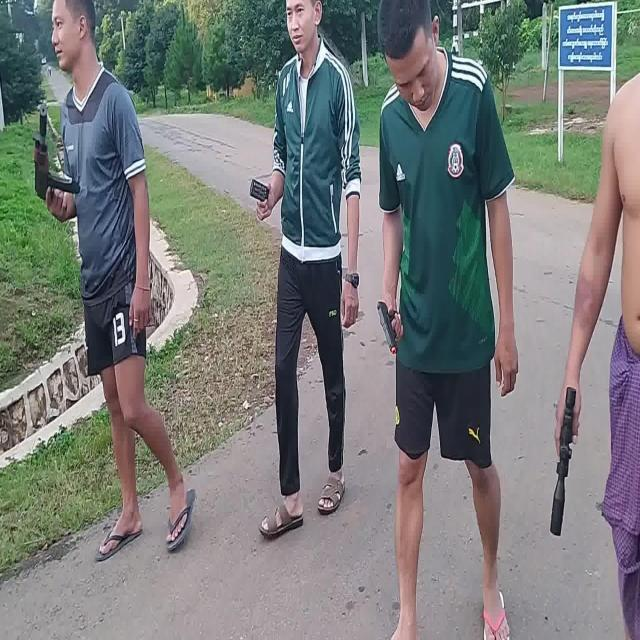gun: (32, 105, 81, 201), (377, 301, 398, 352)
